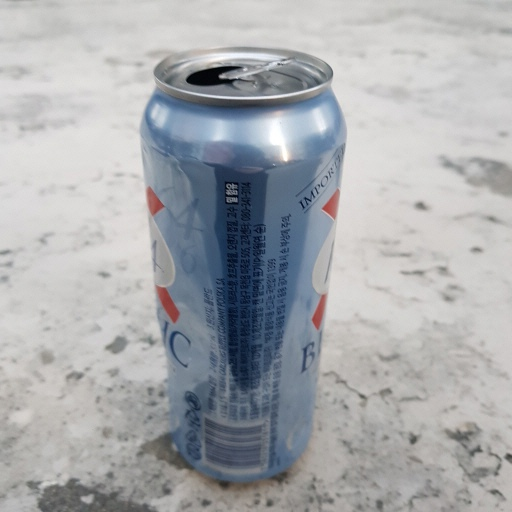Metal_0: (138, 46, 348, 485)
